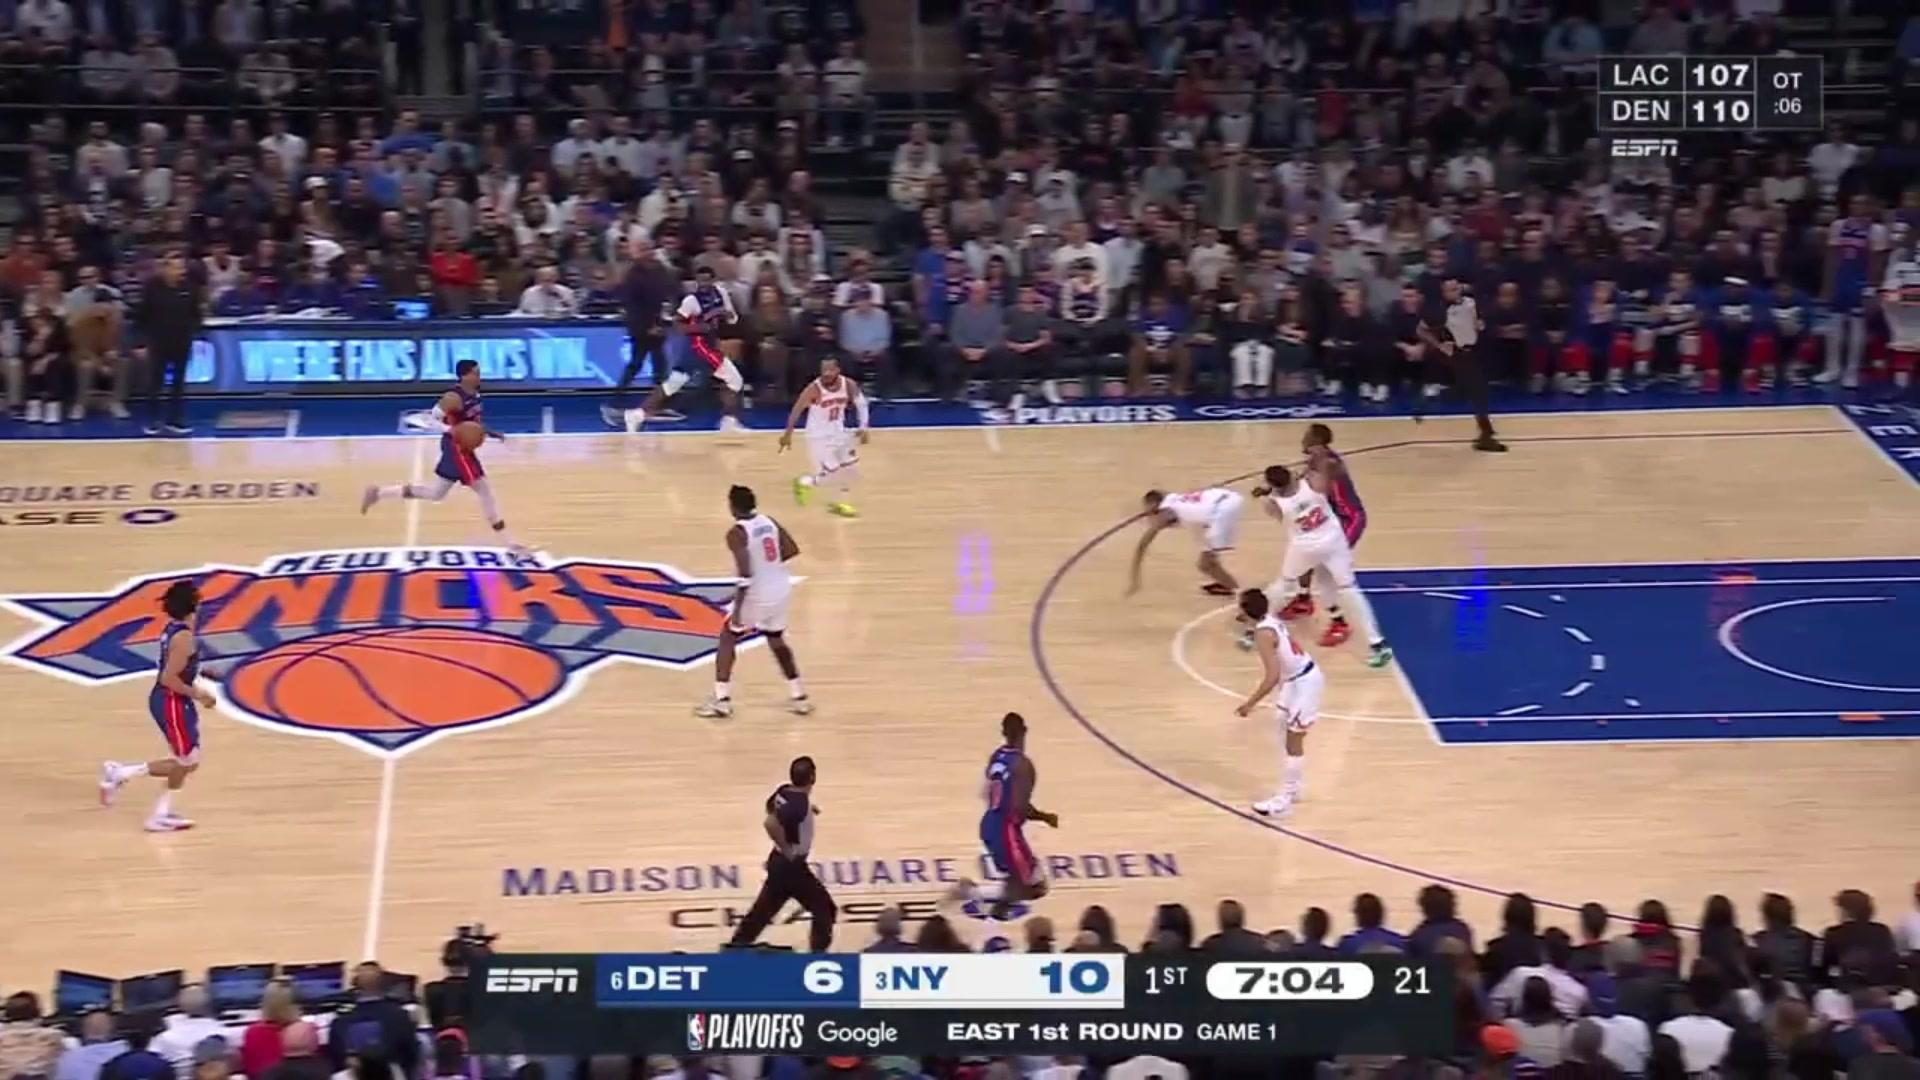foul: (1124, 422, 1410, 636)
